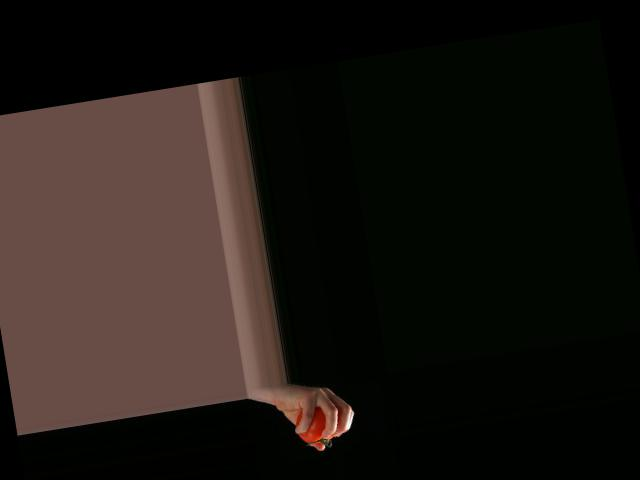tomato: (293, 403, 333, 444)
